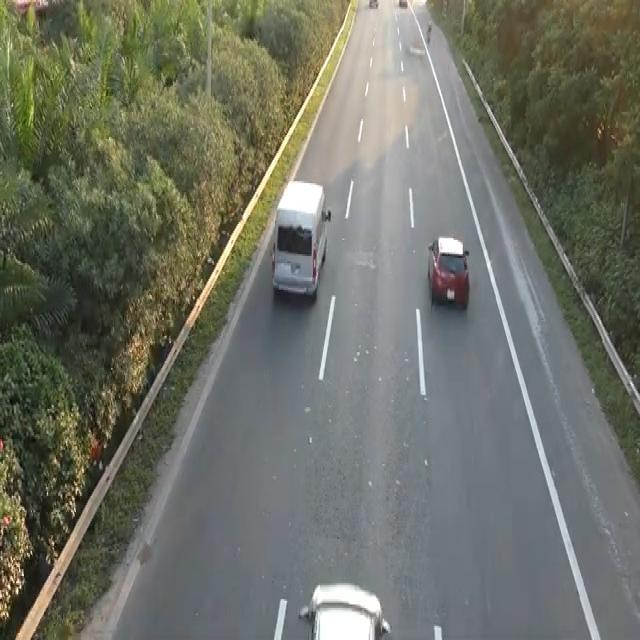bus: (297, 580, 391, 636), (424, 231, 473, 317)
jeep: (269, 176, 332, 300)
